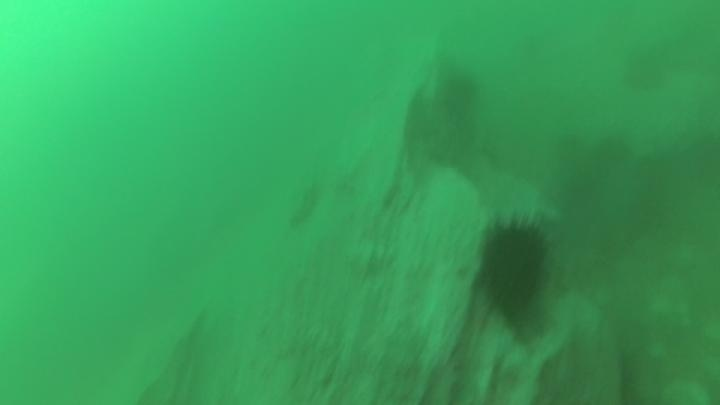echinus: (474, 212, 556, 323)
